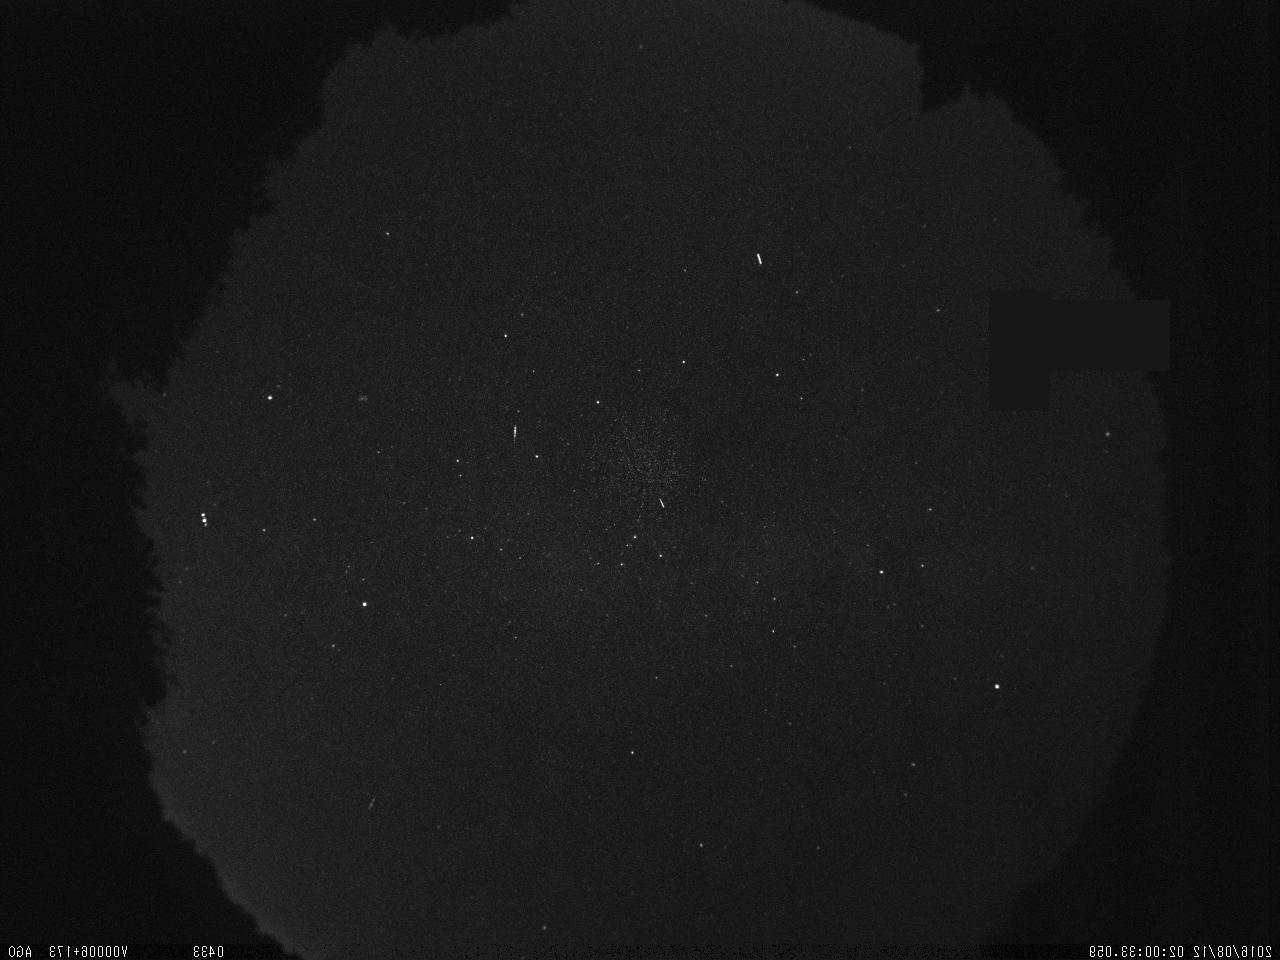meteor: (497, 417, 522, 459)
